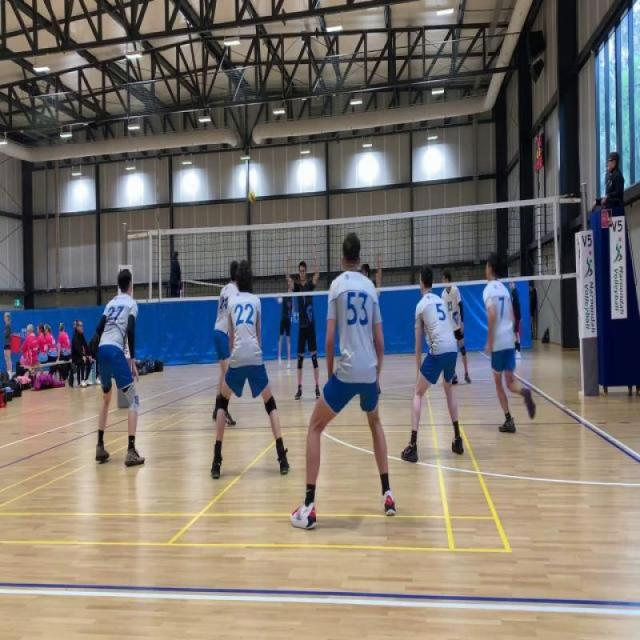volleyball: (248, 190, 256, 206)
